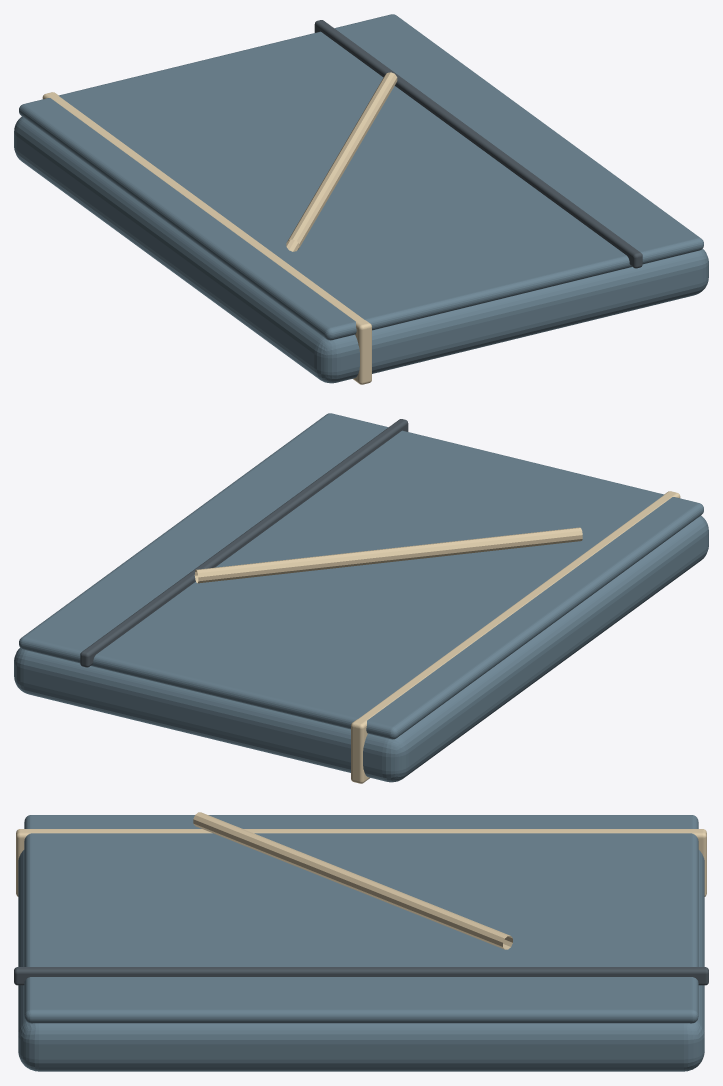
The model's file is research-notebook.glb.
The picture shows the model from 3 angles, top to bottom: view 1: azimuth 30°, elevation 25°; view 2: azimuth 150°, elevation 25°; view 3: azimuth 270°, elevation 25°; orthographic projection. The views are drawn at different scales.
Parts seen in each view (by area): view 1: navy_2, navy_0, black_4, brass_3, brass_5; view 2: navy_2, navy_0, brass_5, black_4, brass_3; view 3: navy_2, navy_0, black_4, brass_5, brass_3.
Part boxes in pixels (box(x1,y1,x2,y2)): navy_2: box(19, 14, 703, 340); navy_0: box(14, 116, 708, 383); black_4: box(314, 20, 642, 268); brass_3: box(42, 92, 371, 384); brass_5: box(286, 72, 397, 251); navy_2: box(19, 413, 703, 739); navy_0: box(14, 515, 708, 782); brass_5: box(194, 527, 582, 583); black_4: box(80, 419, 408, 667); brass_3: box(351, 491, 680, 783); navy_2: box(24, 815, 698, 1023); navy_0: box(18, 850, 704, 1071); black_4: box(14, 967, 708, 985); brass_5: box(193, 812, 512, 949); brass_3: box(16, 829, 706, 896).
Bounding box in the file's own units: 1.17 × 0.243 × 1.66.
